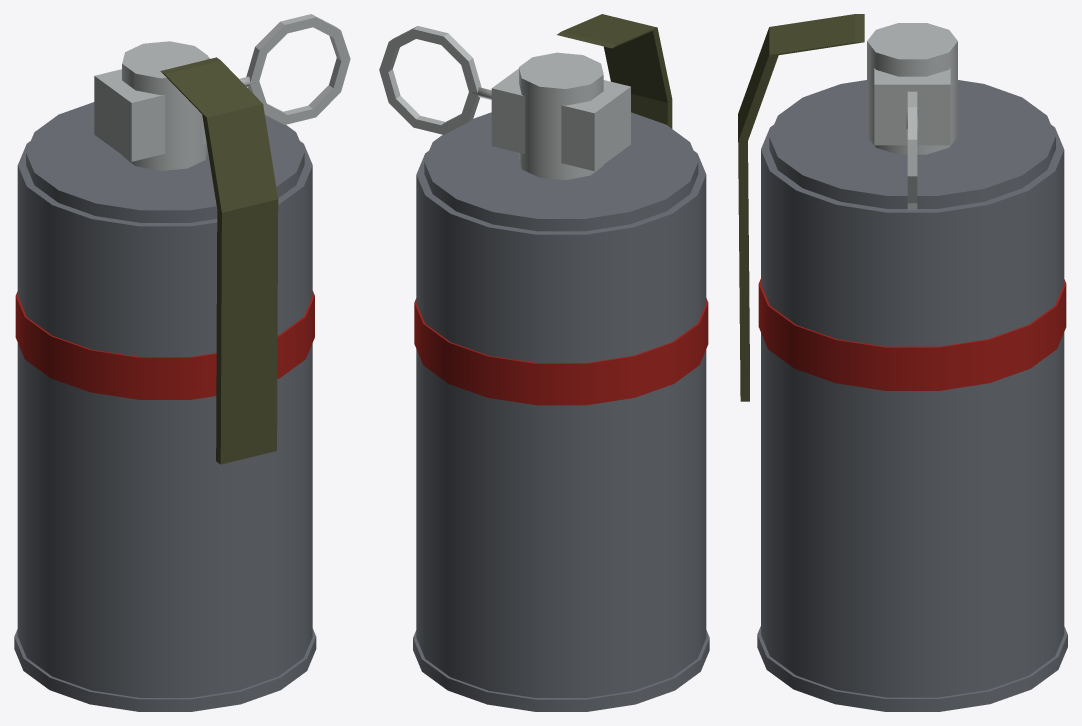
Rendered from incendiary.glb.
The picture shows the model from 3 angles, left to right: view 1: azimuth 30°, elevation 25°; view 2: azimuth 150°, elevation 25°; view 3: azimuth 270°, elevation 25°; orthographic projection. The views are drawn at different scales.
Parts seen in each view (by area): view 1: incendiary; view 2: incendiary; view 3: incendiary.
Boxes of the visible parts, x1,y1,x2,y2 form: incendiary: [14, 14, 350, 711]; incendiary: [379, 14, 709, 711]; incendiary: [738, 14, 1067, 711].
Size of the model in its own units: 0.0775 by 0.143 by 0.069.
1 material, 1 textured.
